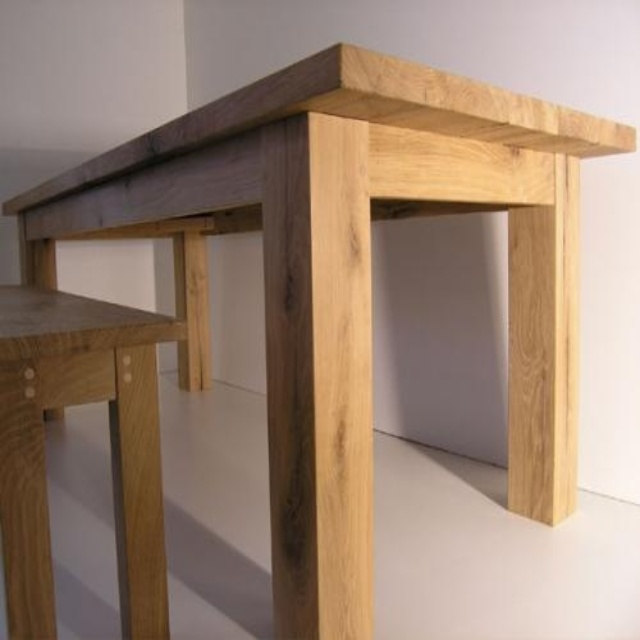obstacle: (0, 44, 634, 637)
